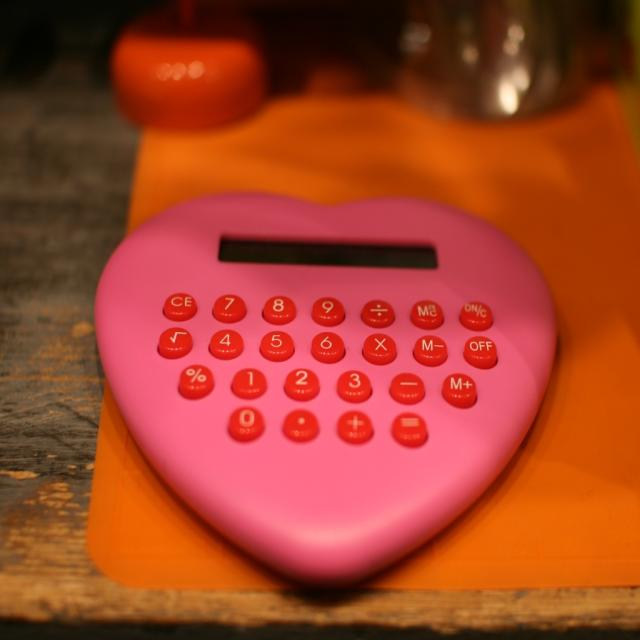Calculator: (90, 189, 562, 587)
